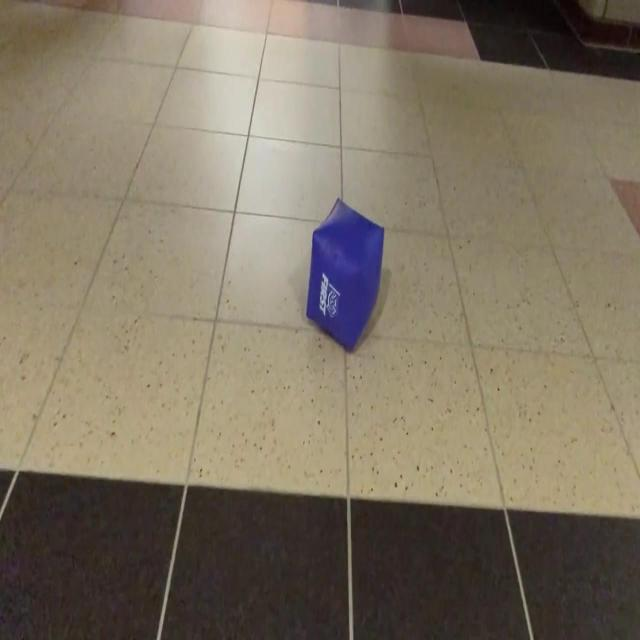frc_cube: (304, 198, 384, 353)
